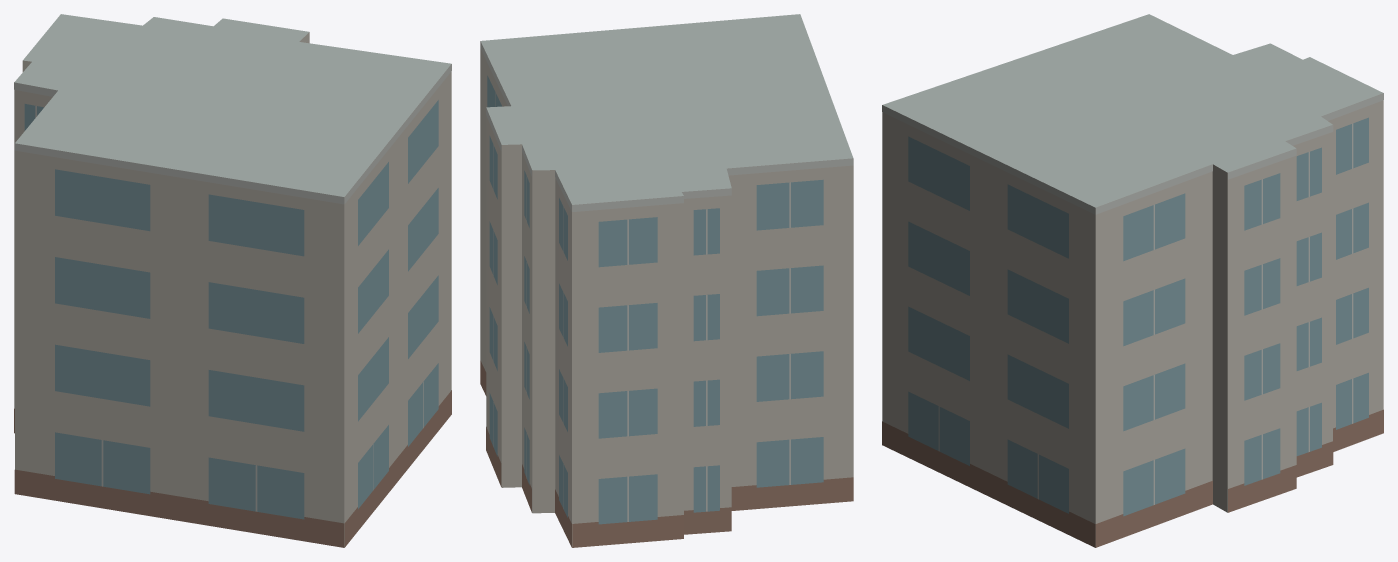
Rendered from survey-upis-32960540.glb.
3 views of the same model, side by side, from view 1: azimuth 30°, elevation 25°; view 2: azimuth 150°, elevation 25°; view 3: azimuth 270°, elevation 25° (orthographic). The views are drawn at different scales.
Parts seen in each view (by area): view 1: survey-upis-32960540.tmp; view 2: survey-upis-32960540.tmp; view 3: survey-upis-32960540.tmp.
Part boxes in pixels (box(x1,y1,x2,y2)): survey-upis-32960540.tmp: box(14, 14, 451, 547); survey-upis-32960540.tmp: box(480, 14, 853, 547); survey-upis-32960540.tmp: box(882, 14, 1383, 547).
Size of the model in its own units: 14.24 by 11.65 by 15.57.
